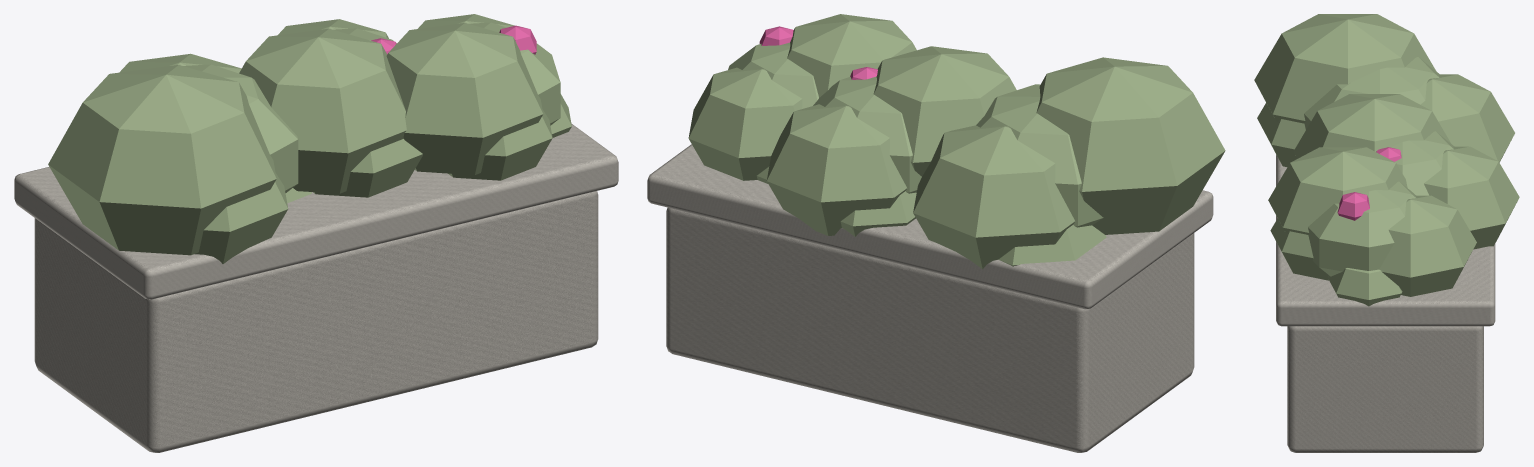
File: planter.glb
The picture shows the model from 3 angles, left to right: view 1: azimuth 30°, elevation 25°; view 2: azimuth 150°, elevation 25°; view 3: azimuth 270°, elevation 25°; orthographic projection. The views are drawn at different scales.
Parts seen in each view (by area): view 1: stone-planter; view 2: stone-planter; view 3: stone-planter.
Boxes of the visible parts, left/top/right/bottom form: stone-planter: left=14, top=14, right=618, bottom=452; stone-planter: left=647, top=14, right=1225, bottom=452; stone-planter: left=1254, top=14, right=1519, bottom=452.
Size of the model in its own units: 1.69 by 1.1 by 0.9447.
Materials: 4 (2 with a texture image).
